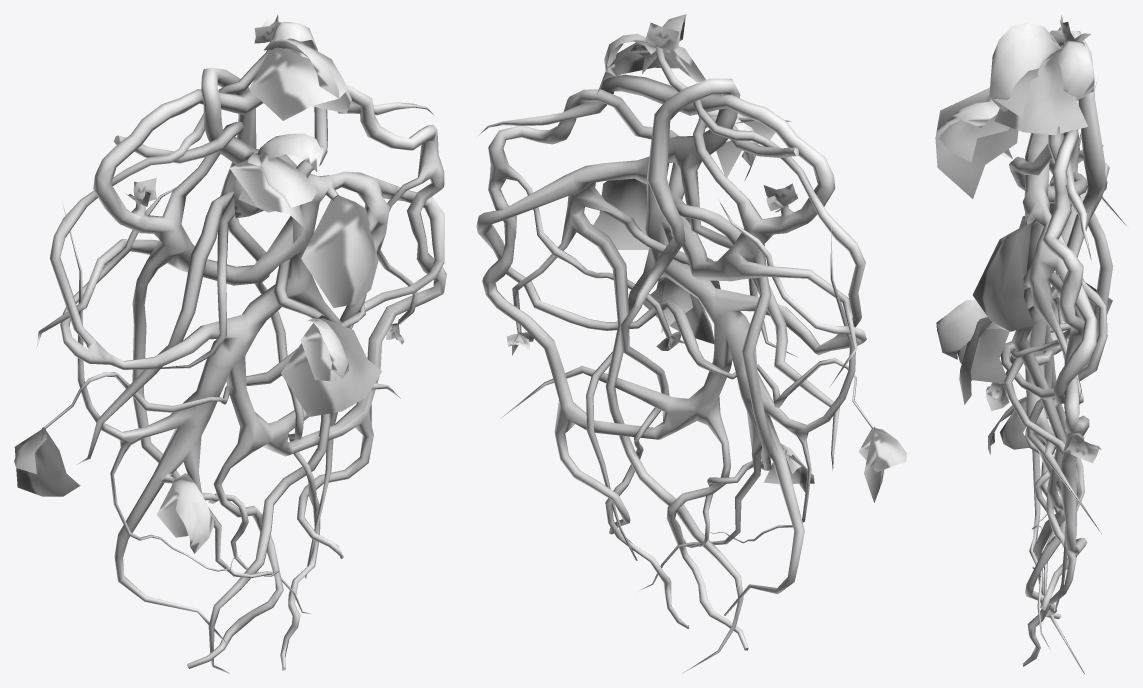
File: Nature_Shield_LOD1.fbx
The picture shows the model from 3 angles, left to right: view 1: azimuth 30°, elevation 25°; view 2: azimuth 150°, elevation 25°; view 3: azimuth 270°, elevation 25°; orthographic projection. The views are drawn at different scales.
Parts seen in each view (by area): view 1: Nature_Shield_LOD1; view 2: Nature_Shield_LOD1; view 3: Nature_Shield_LOD1.
Boxes of the visible parts, <box> form: Nature_Shield_LOD1: <box>14,15,446,673</box>; Nature_Shield_LOD1: <box>476,14,906,673</box>; Nature_Shield_LOD1: <box>935,14,1126,673</box>.
Bounding box in the file's own units: 3.05 × 4.39 × 1.14.
